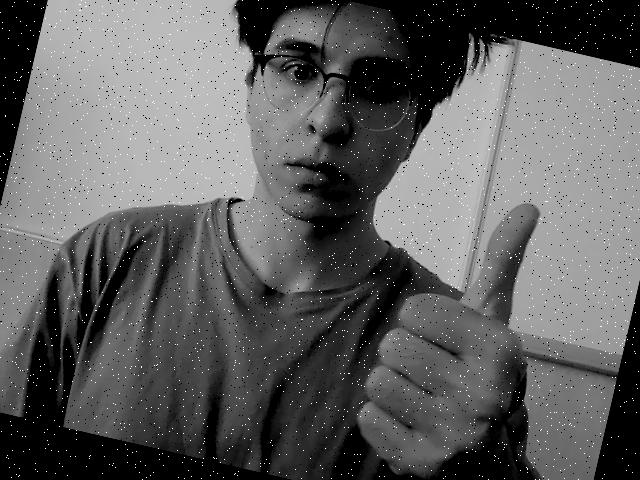good: (333, 192, 592, 480)
